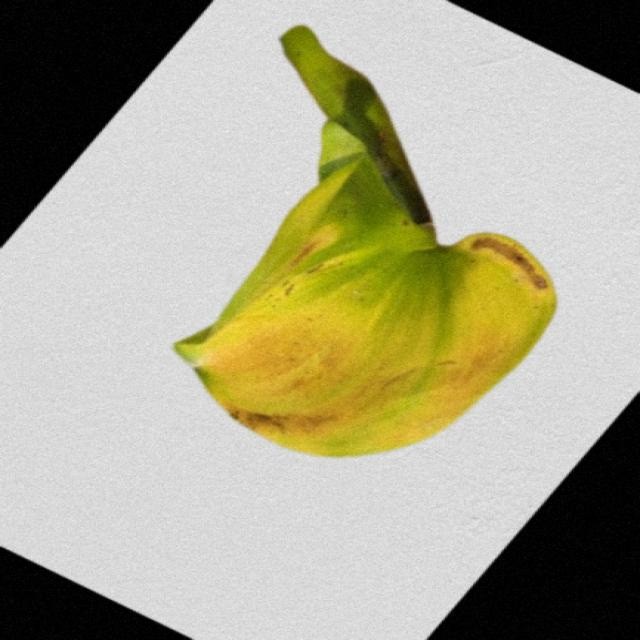daun berpenyakit kuning: (175, 26, 555, 456)
